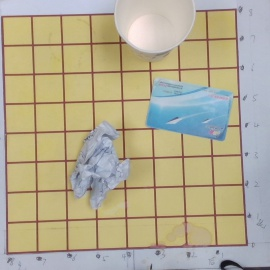card: (146, 76, 232, 145)
cup: (111, 1, 196, 62)
